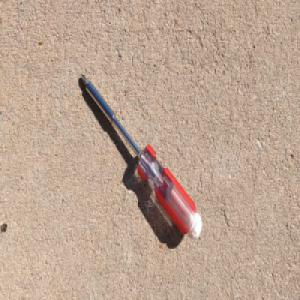Screwdriver: (78, 71, 203, 243)
